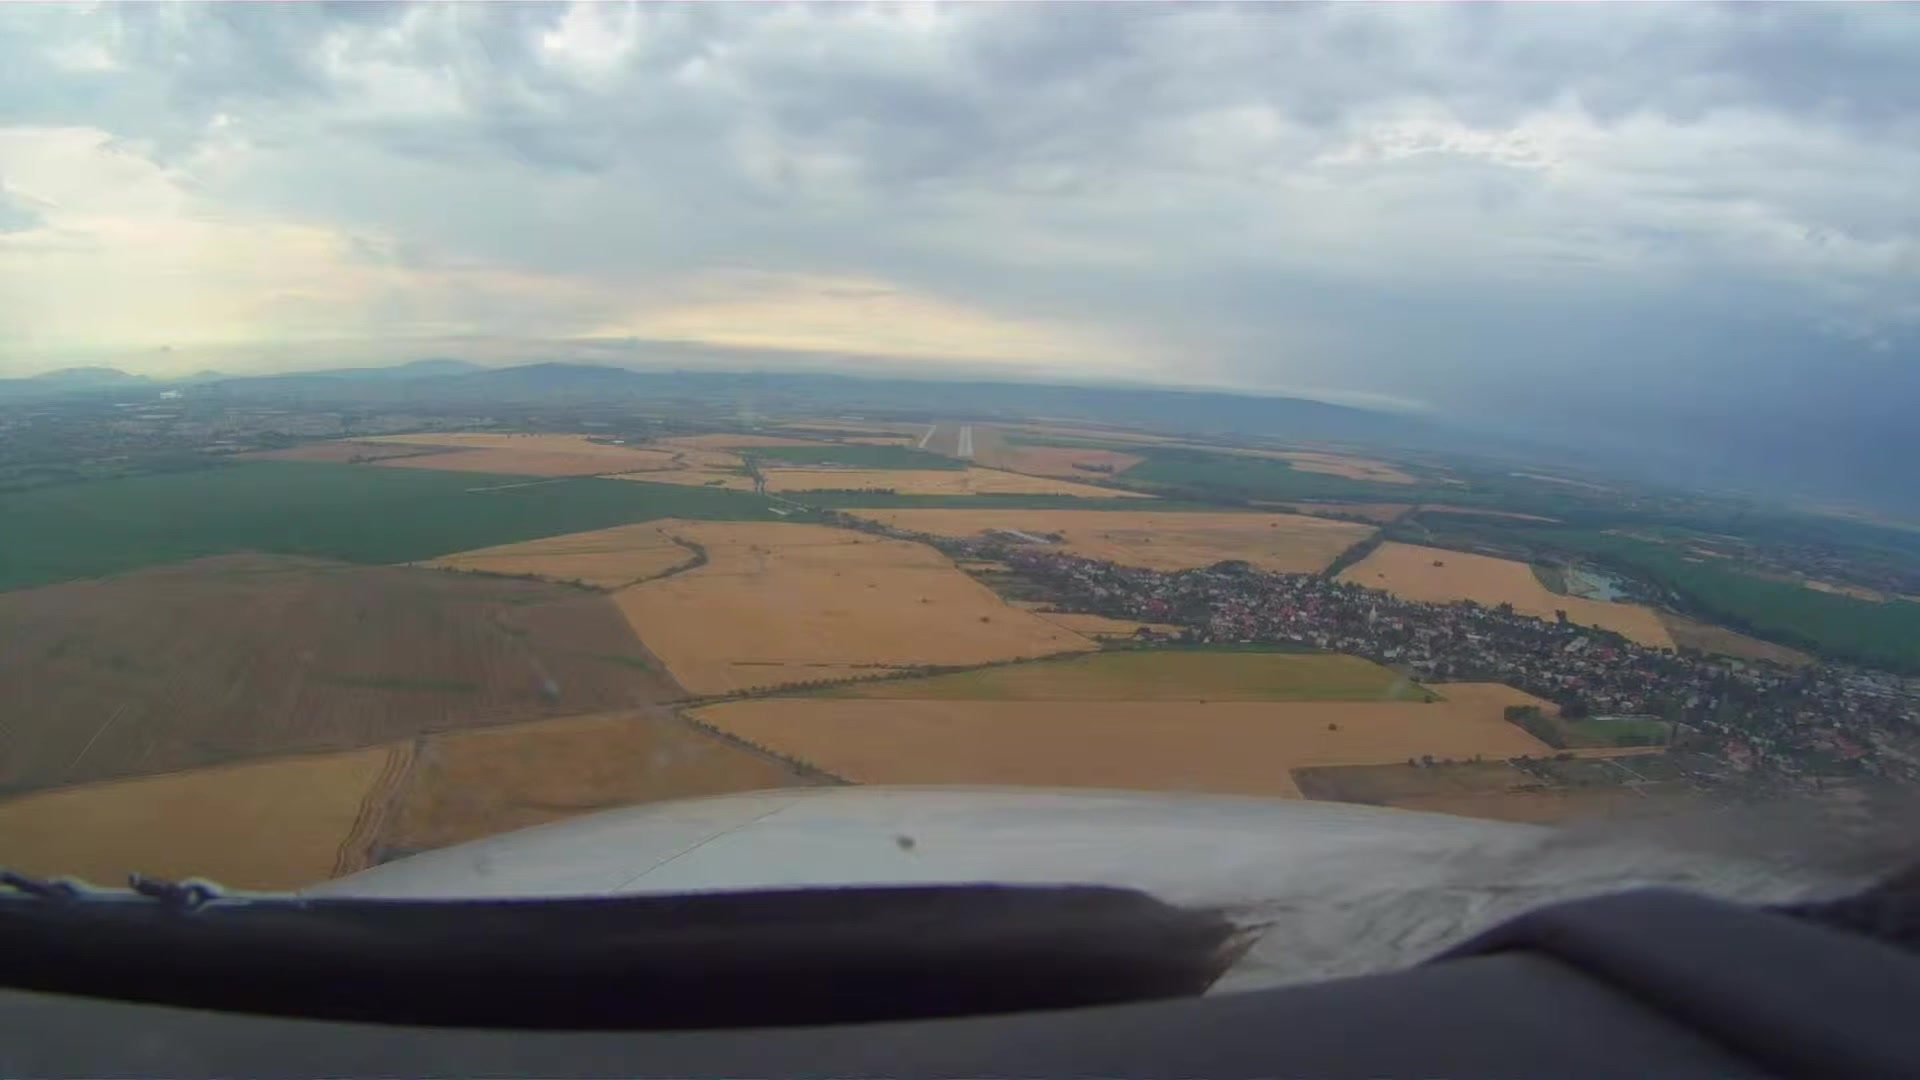runway: (953, 423, 975, 460)
